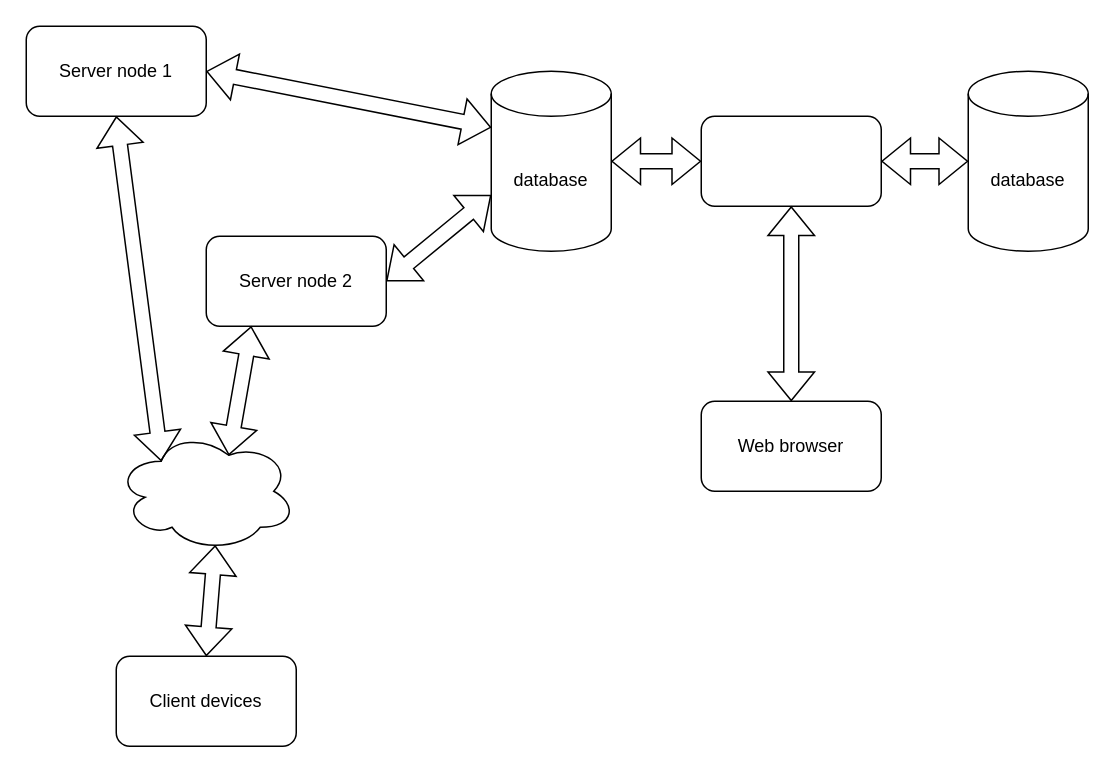
Some shapes in this 1115 by 773 pixel diagram are drawn without their labels. The centre of each missing label's shape, as x and y in pixels:
"PORT" goes at (x=205, y=490).
"Server node manage" goes at (x=790, y=160).
